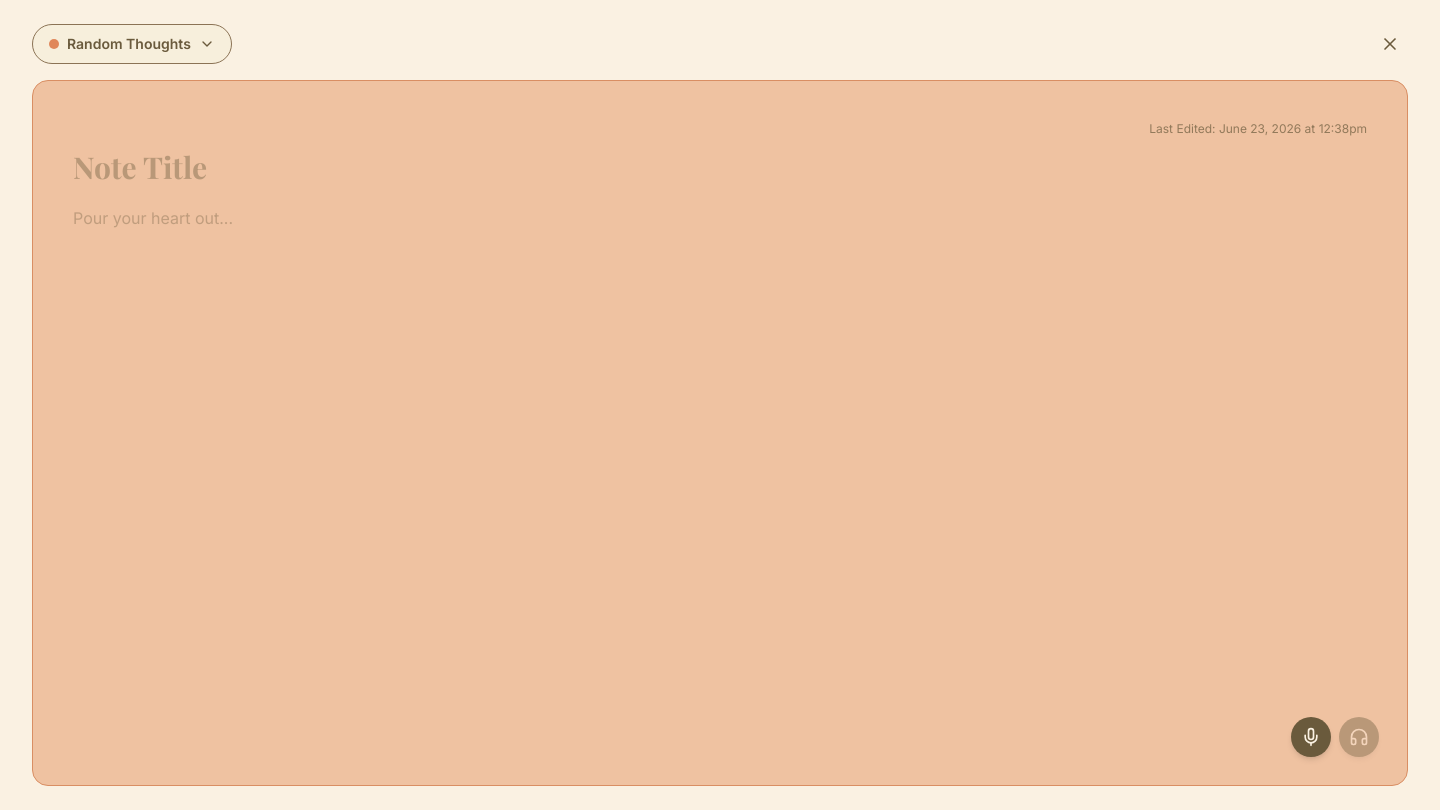
NoteEditor autosave › disables the read-aloud button on an empty note and enables it once there's text
The width and height of the screenshot is (1440, 810).
Expected: the button named "read note aloud" is disabled, [1339,717,1379,757]
Note: Type some content — the button becomes enabled.
Type "now there's something to read" into the text box with placeholder "Pour your heart out..." at {"x": 720, "y": 475}, box [73,205,1367,745]
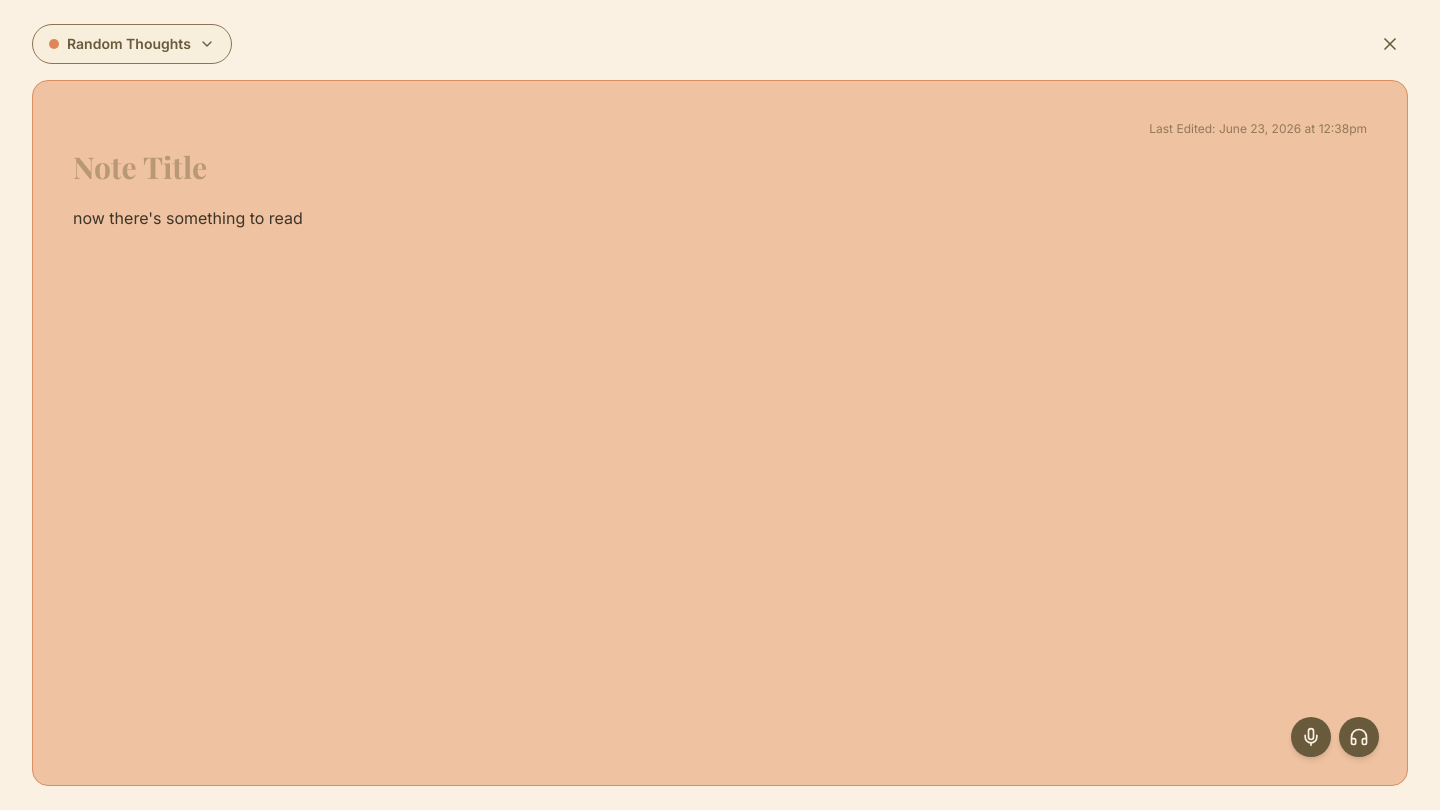
Expected: the button named "read note aloud" is enabled, [1339,717,1379,757]
